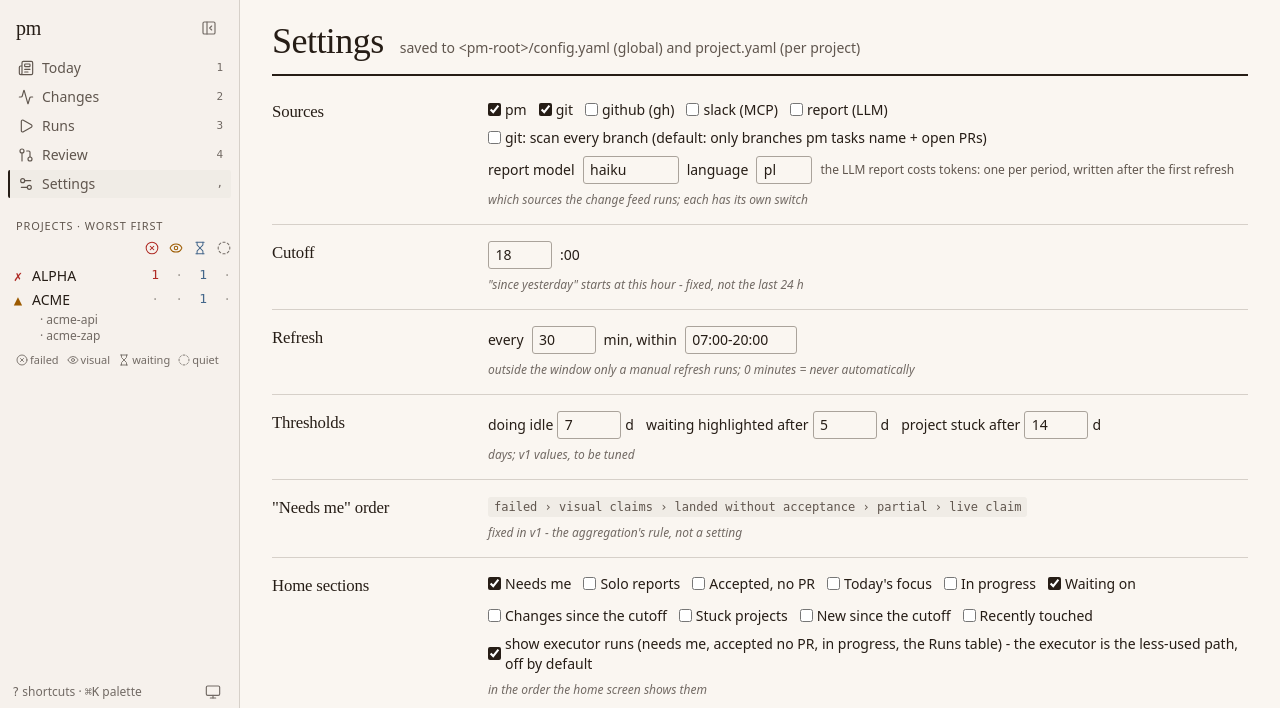
Test: settings screen › renders every group with the API values; Save is disabled until something changes and then posts only the diff
Expected: the checkbox labelled "pm" is checked, [488,103,501,116]
Expected: the checkbox labelled "github (gh)" is not checked, [585,103,598,116]
Click the checkbox labelled "Recently touched". click: (969, 616)
box: [963,609,976,622]
(page scrolled)
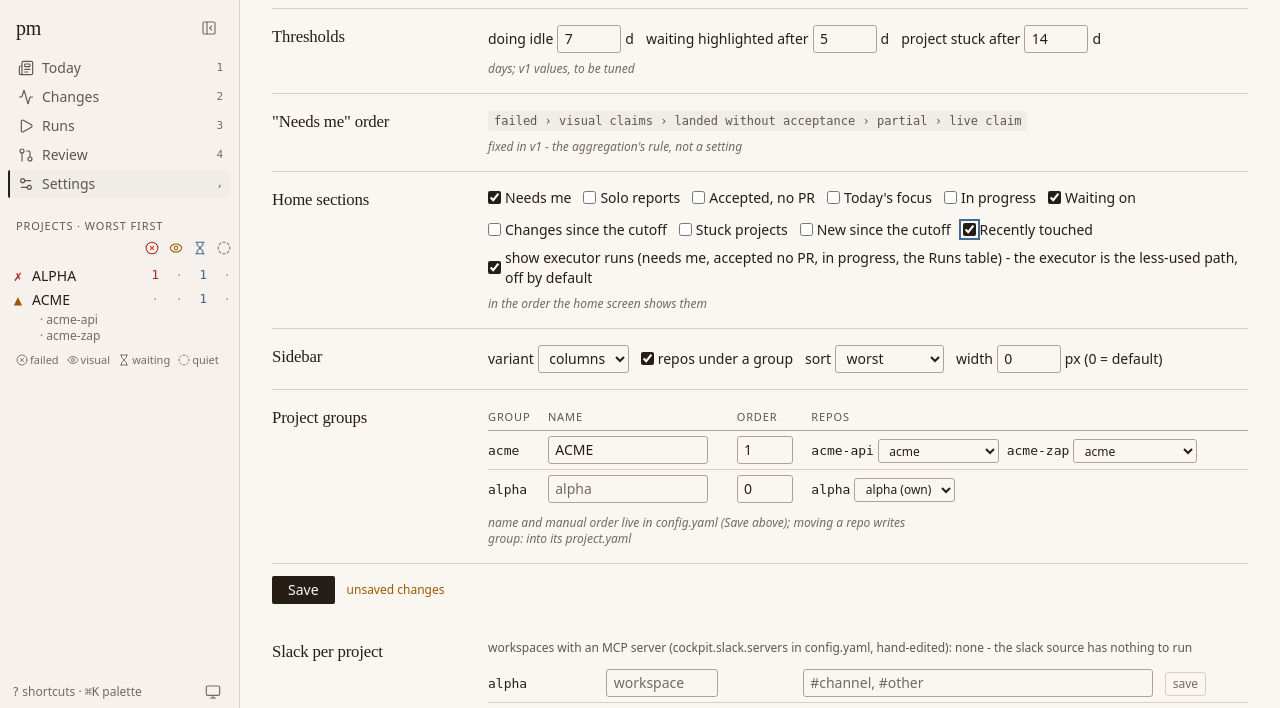
Select "rail" in the dropdown named "sidebar variant". click: (583, 359)
box: [538,345,629,373]
(page scrolled)
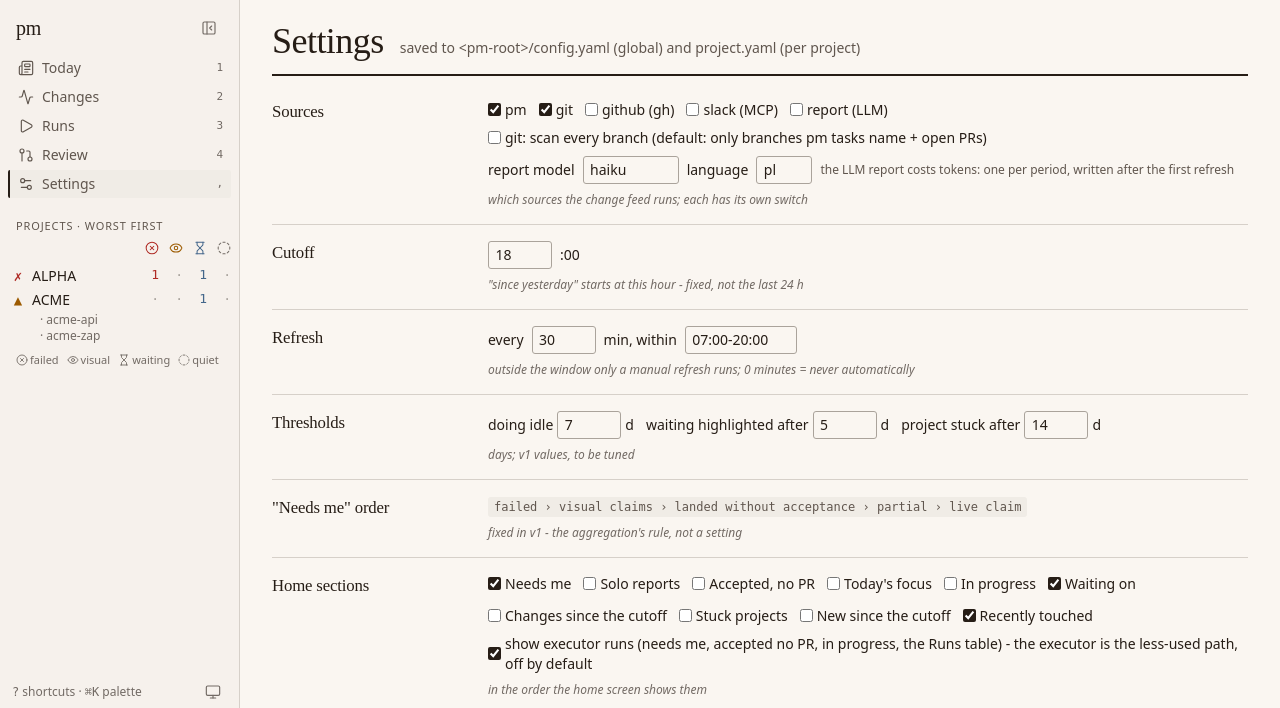
Replace the text in the number field named "cutoff hour" with "20". click: (520, 255)
box: [488,241,552,269]
(page scrolled)
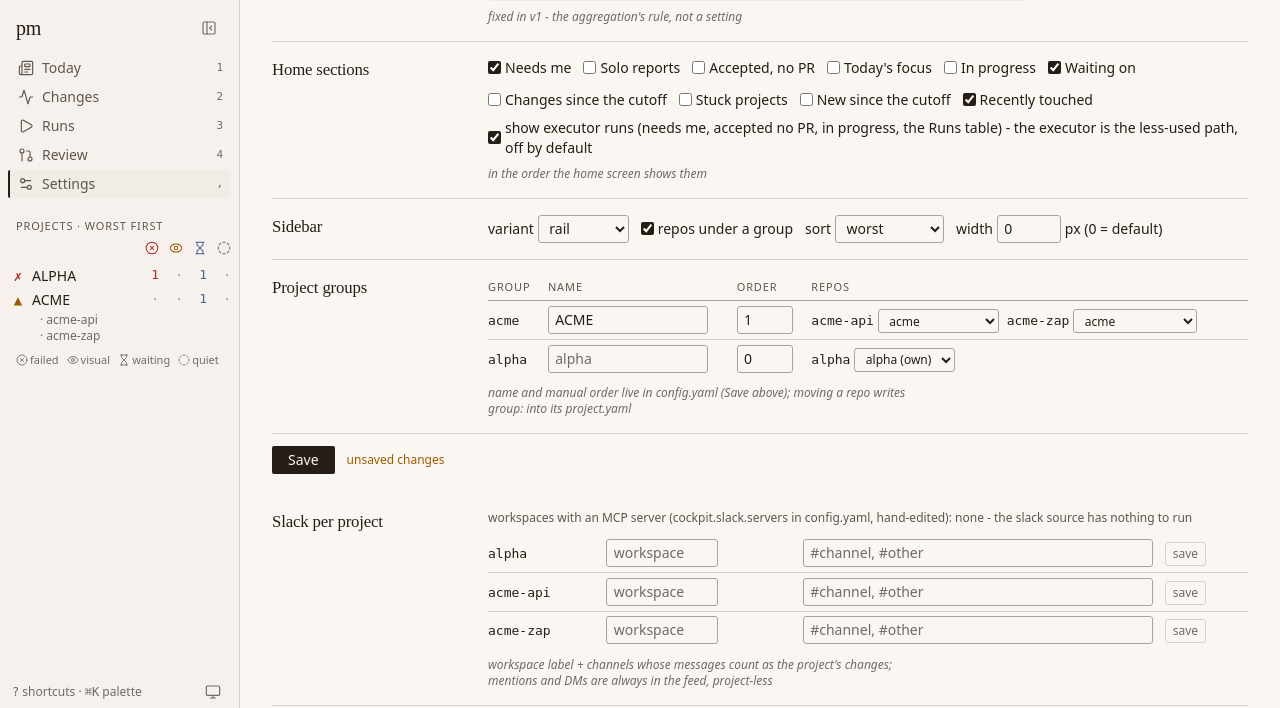
Type "Alpha!" into the field named "name of alpha". click: (628, 359)
box: [548,345,708,373]
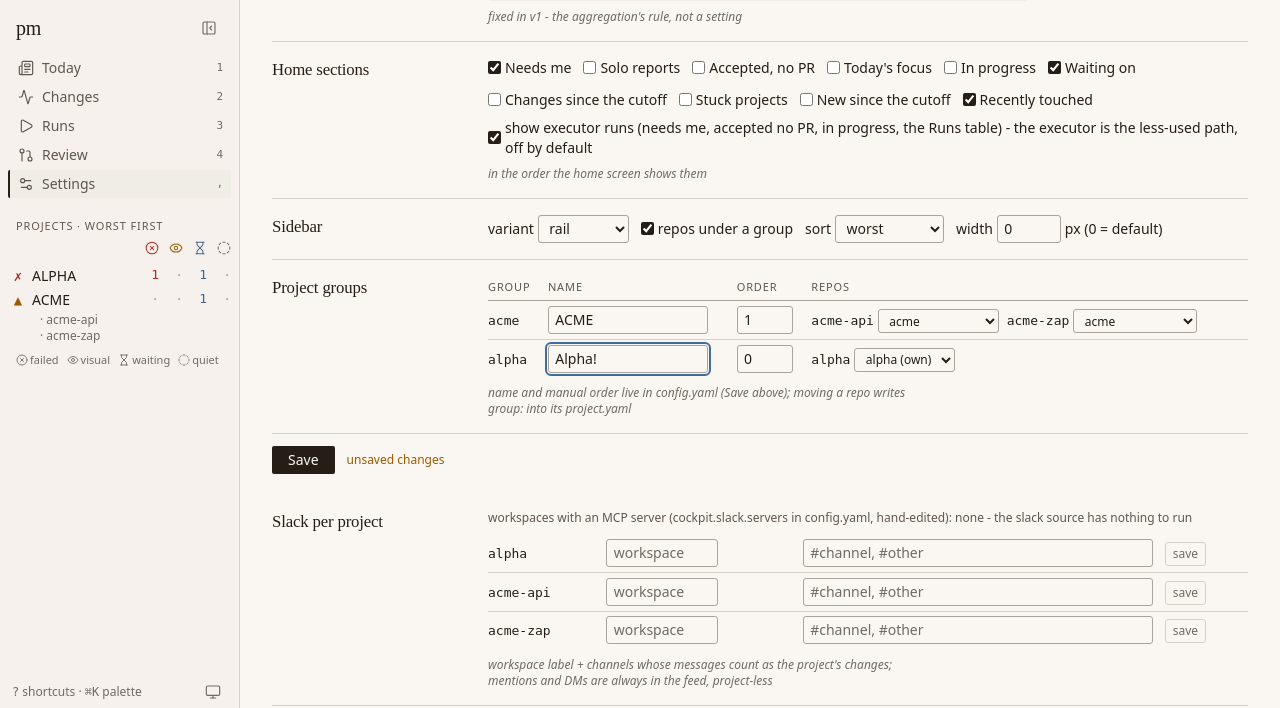
Expected: the button "Save" is enabled
Click the button "Save". click: (303, 460)
box: [272,446,335,474]
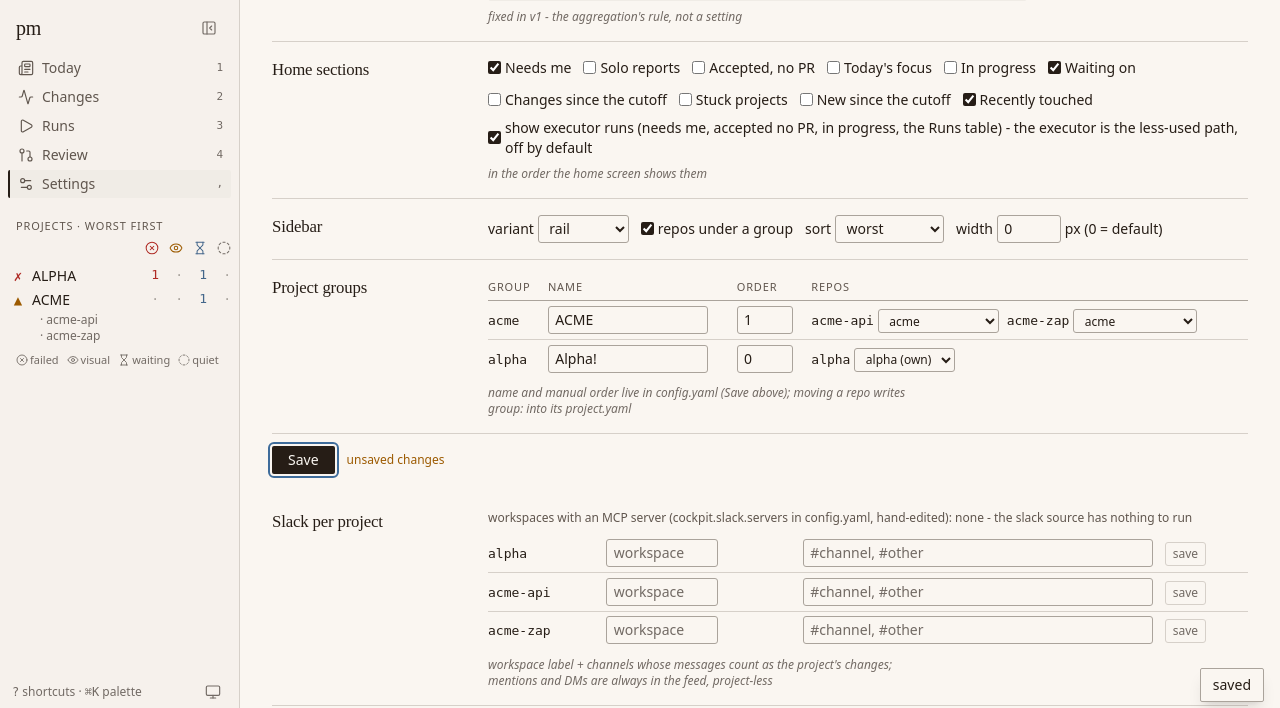
Expected: the message reads "saved", [1213,675,1251,694]
